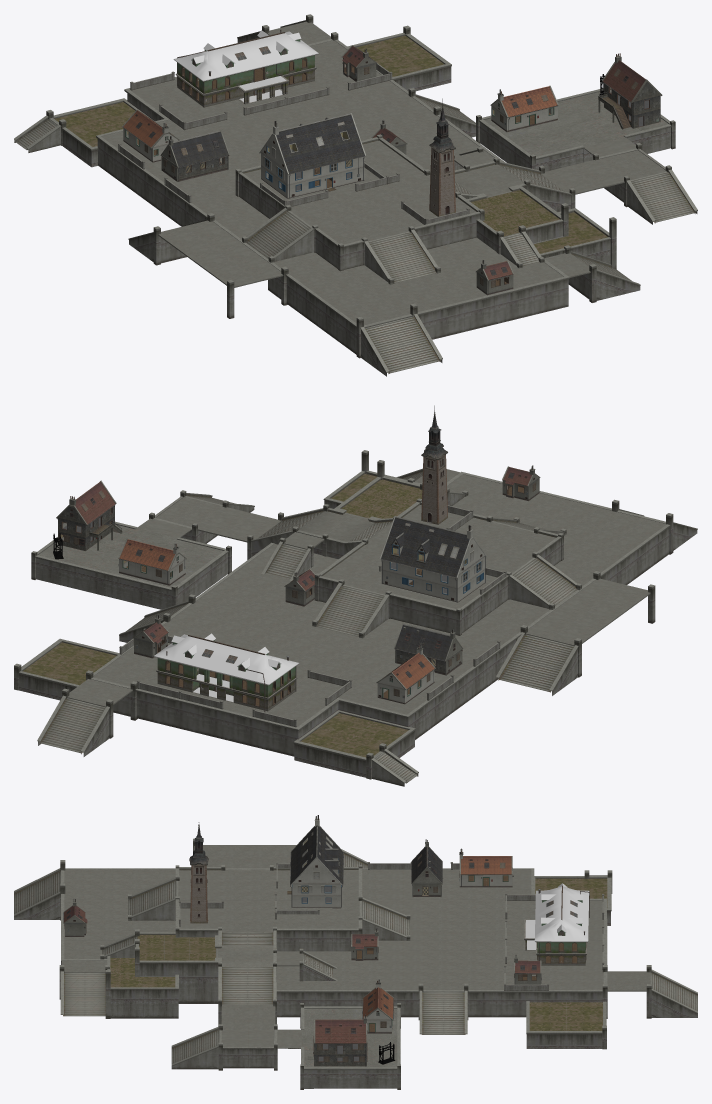
Rendered from Clock Tower 100%.obj.
3 views of the same model, one above another, from view 1: azimuth 30°, elevation 25°; view 2: azimuth 150°, elevation 25°; view 3: azimuth 270°, elevation 25° (orthographic). The views are drawn at different scales.
Visible parts, largest first — view 1: Base_02_LOD0_0, mansion_LOD0_2, Zone_A_House_Huge_A_LOD0_1, mansion_LOD0_3, Zone_A_House_Huge_A_LOD0_2, Tower_01_LOD0_0, Zone_A_House_Huge_A_LOD0_0, Zone_A_House_Medium_B_LOD0_3.002, Zone_A_House_Big_B_LOD0_2, Zone_A_House_Big_B_LOD0_1, Zone_A_House_Medium_A_LOD0_3, Zone_A_House_Big_B_LOD0_0 (+7 smaller); view 2: Base_02_LOD0_0, mansion_LOD0_2, mansion_LOD0_3, Zone_A_House_Huge_A_LOD0_1, Zone_A_House_Huge_A_LOD0_2, Tower_01_LOD0_0, Zone_A_House_Huge_A_LOD0_0, Zone_A_House_Big_B_LOD0_2, Zone_A_House_Medium_B_LOD0_3.002, Zone_A_House_Big_B_LOD0_1, Zone_A_House_Medium_A_LOD0_3, Zone_A_House_Big_B_LOD0_0 (+8 smaller); view 3: Base_02_LOD0_0, mansion_LOD0_2, Zone_A_House_Huge_A_LOD0_1, Zone_A_House_Huge_A_LOD0_2, Tower_01_LOD0_0, mansion_LOD0_3, Zone_A_House_Big_B_LOD0_0, Zone_A_House_Huge_A_LOD0_0, Zone_A_House_Big_B_LOD0_2, Zone_A_House_Medium_A_LOD0_3.007, Zone_A_House_Big_B_LOD0_1, Zone_A_House_Medium_B_LOD0_3.002 (+6 smaller).
Part boxes in pixels (x1,y1,x2,y2): Base_02_LOD0_0: [14, 14, 697, 376]; mansion_LOD0_2: [173, 30, 318, 102]; Zone_A_House_Huge_A_LOD0_1: [276, 113, 364, 173]; mansion_LOD0_3: [175, 29, 317, 107]; Zone_A_House_Huge_A_LOD0_2: [261, 126, 364, 198]; Tower_01_LOD0_0: [429, 98, 455, 216]; Zone_A_House_Huge_A_LOD0_0: [259, 113, 365, 198]; Zone_A_House_Medium_B_LOD0_3.002: [171, 130, 228, 172]; Zone_A_House_Big_B_LOD0_2: [604, 56, 660, 130]; Zone_A_House_Big_B_LOD0_1: [598, 53, 662, 130]; Zone_A_House_Medium_A_LOD0_3: [502, 86, 557, 116]; Zone_A_House_Big_B_LOD0_0: [603, 60, 645, 101]; Base_02_LOD0_0: [14, 450, 697, 786]; mansion_LOD0_2: [154, 633, 299, 701]; mansion_LOD0_3: [155, 640, 297, 711]; Zone_A_House_Huge_A_LOD0_1: [381, 516, 469, 577]; Zone_A_House_Huge_A_LOD0_2: [381, 529, 484, 601]; Tower_01_LOD0_0: [421, 405, 447, 524]; Zone_A_House_Huge_A_LOD0_0: [380, 516, 486, 602]; Zone_A_House_Big_B_LOD0_2: [58, 498, 114, 550]; Zone_A_House_Medium_B_LOD0_3.002: [395, 624, 452, 665]; Zone_A_House_Big_B_LOD0_1: [56, 480, 122, 550]; Zone_A_House_Medium_A_LOD0_3: [119, 539, 174, 570]; Zone_A_House_Big_B_LOD0_0: [75, 481, 115, 524]; Base_02_LOD0_0: [14, 838, 697, 1089]; mansion_LOD0_2: [525, 883, 589, 949]; Zone_A_House_Huge_A_LOD0_1: [290, 825, 343, 892]; Zone_A_House_Huge_A_LOD0_2: [292, 819, 340, 907]; Tower_01_LOD0_0: [189, 822, 208, 923]; mansion_LOD0_3: [524, 889, 589, 965]; Zone_A_House_Big_B_LOD0_0: [315, 1019, 366, 1043]; Zone_A_House_Huge_A_LOD0_0: [287, 815, 343, 908]; Zone_A_House_Big_B_LOD0_2: [307, 1016, 366, 1066]; Zone_A_House_Medium_A_LOD0_3.007: [461, 856, 511, 874]; Zone_A_House_Big_B_LOD0_1: [313, 1014, 367, 1066]; Zone_A_House_Medium_B_LOD0_3.002: [411, 846, 442, 894].
Bounding box in the file's own units: 119 × 37.6 × 155.
